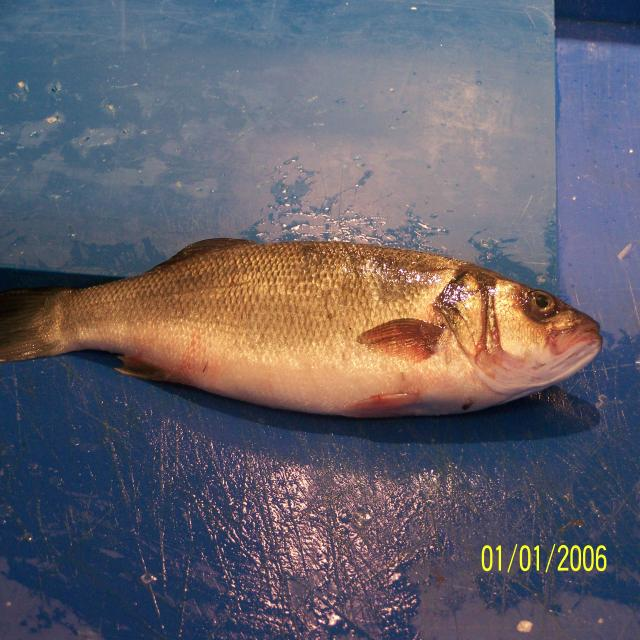Sea-Bass-levrek-: (0, 239, 604, 420)
